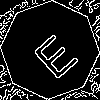E: (25, 25, 80, 82)
